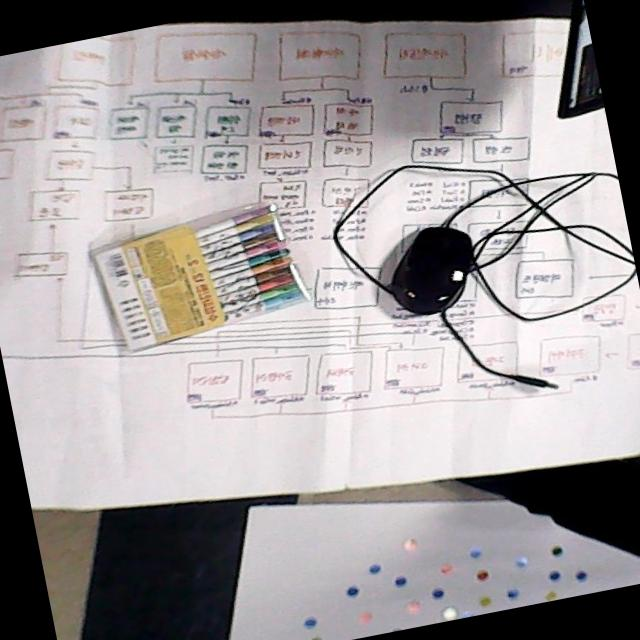mouse: (381, 220, 476, 323)
signpen: (86, 192, 322, 362)
